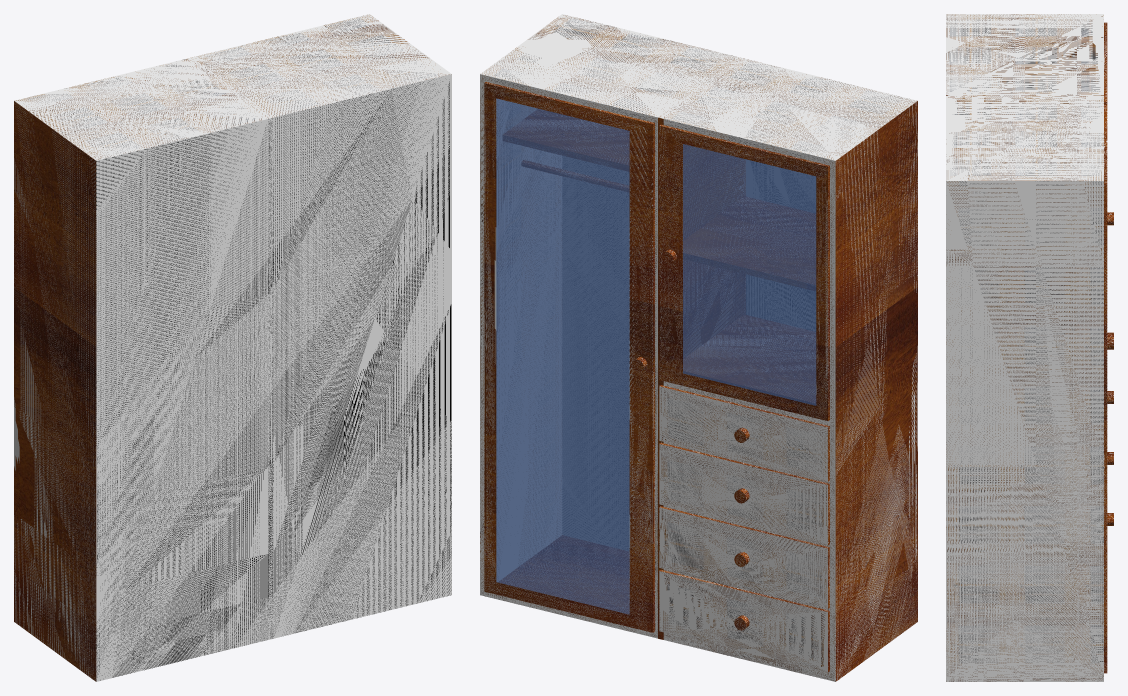
The picture shows the model from 3 angles, left to right: view 1: azimuth 30°, elevation 25°; view 2: azimuth 150°, elevation 25°; view 3: azimuth 270°, elevation 25°; orthographic projection. The views are drawn at different scales.
Parts seen in each view (by area): view 1: mesh1_mesh1-geometry; view 2: mesh1_mesh1-geometry; view 3: mesh1_mesh1-geometry.
Part boxes in pixels (x1=…): mesh1_mesh1-geometry: x1=14, y1=14, x2=451, y2=681; mesh1_mesh1-geometry: x1=480, y1=14, x2=917, y2=681; mesh1_mesh1-geometry: x1=946, y1=14, x2=1113, y2=681.
Size of the model in its own units: 0.5642 by 0.79 by 0.2398.
